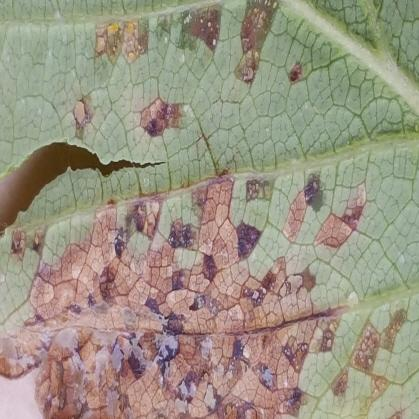Angular Leafspot: (0, 0, 412, 418)
